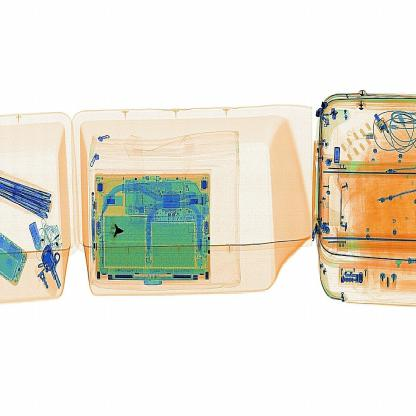gun: (102, 208, 127, 249)
